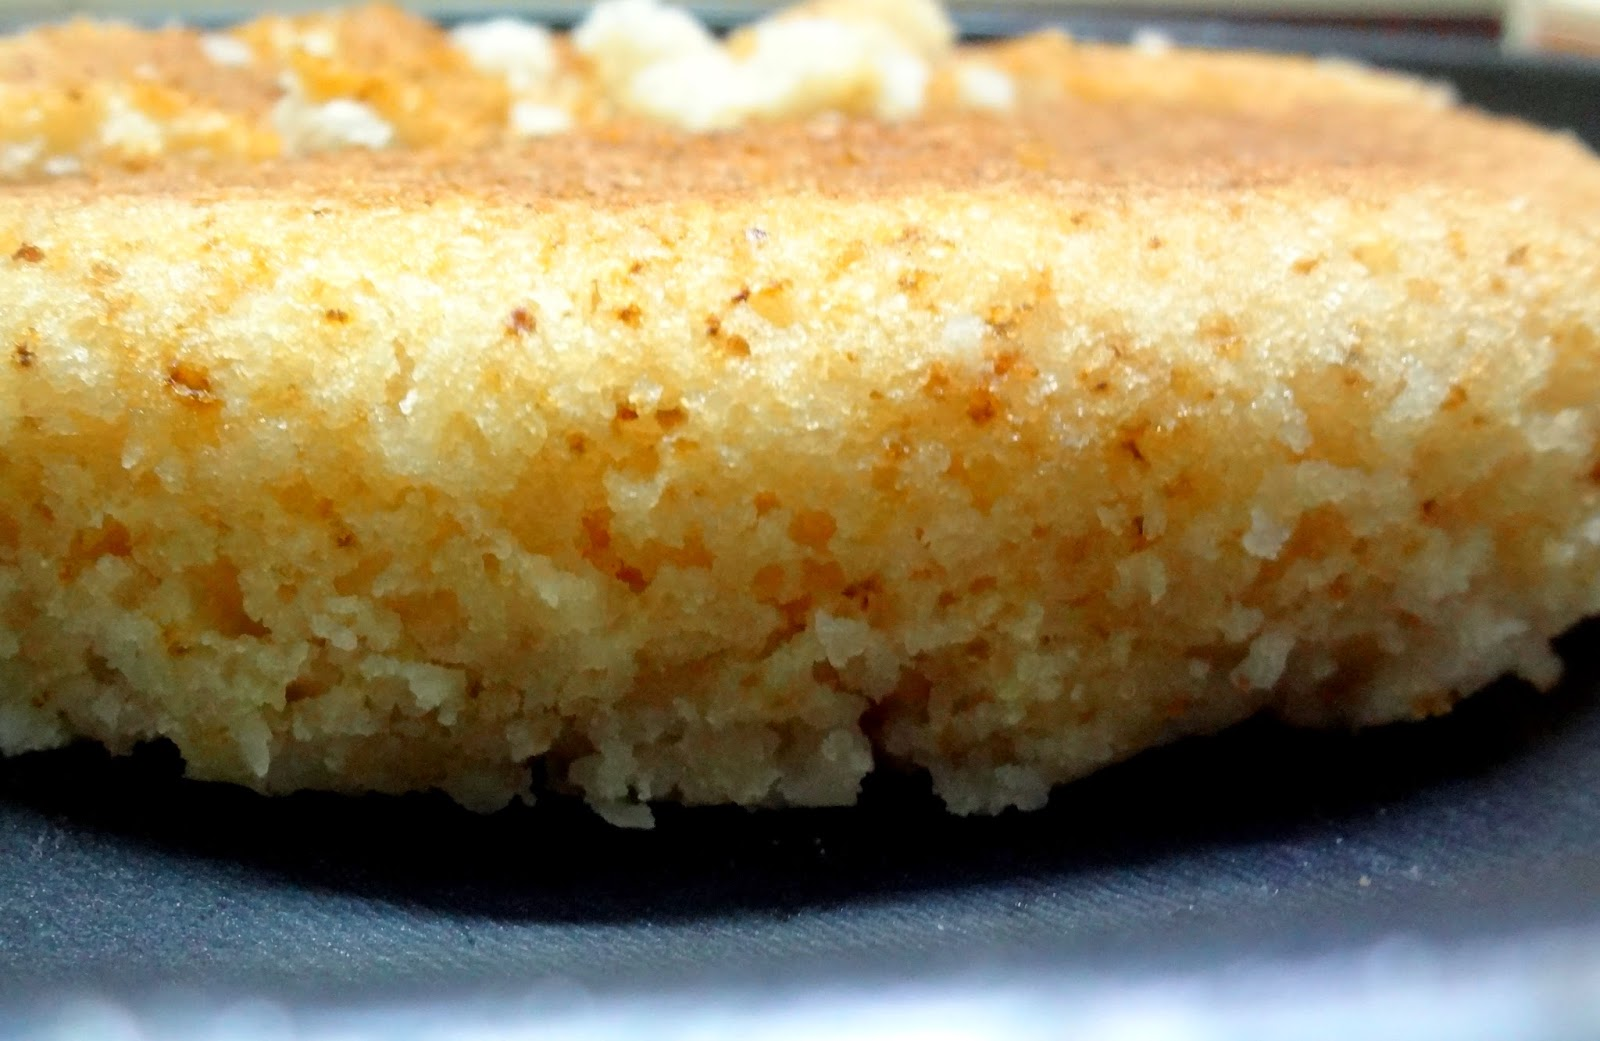slice of bread: (44, 240, 1592, 720)
